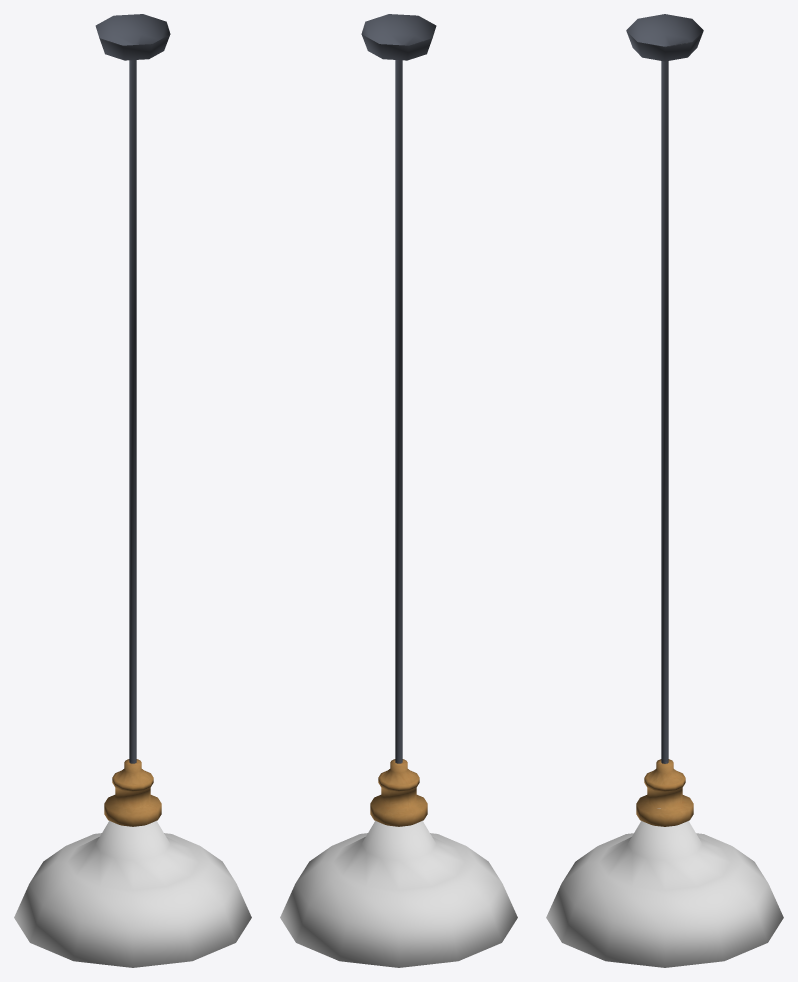
File: LightPendant.fbx
The picture shows the model from 3 angles, left to right: view 1: azimuth 30°, elevation 25°; view 2: azimuth 150°, elevation 25°; view 3: azimuth 270°, elevation 25°; orthographic projection.
Visible parts, largest first — view 1: Shade.001, Pendant.001; view 2: Shade.001, Pendant.001; view 3: Shade.001, Pendant.001.
Boxes of the visible parts, x1,y1,x2,y2 form: Shade.001: [14, 821, 251, 967]; Pendant.001: [95, 14, 170, 826]; Shade.001: [280, 821, 517, 967]; Pendant.001: [361, 14, 436, 826]; Shade.001: [546, 821, 783, 967]; Pendant.001: [626, 14, 703, 826].
Bounding box in the file's own units: 24.53 × 101 × 24.53.
